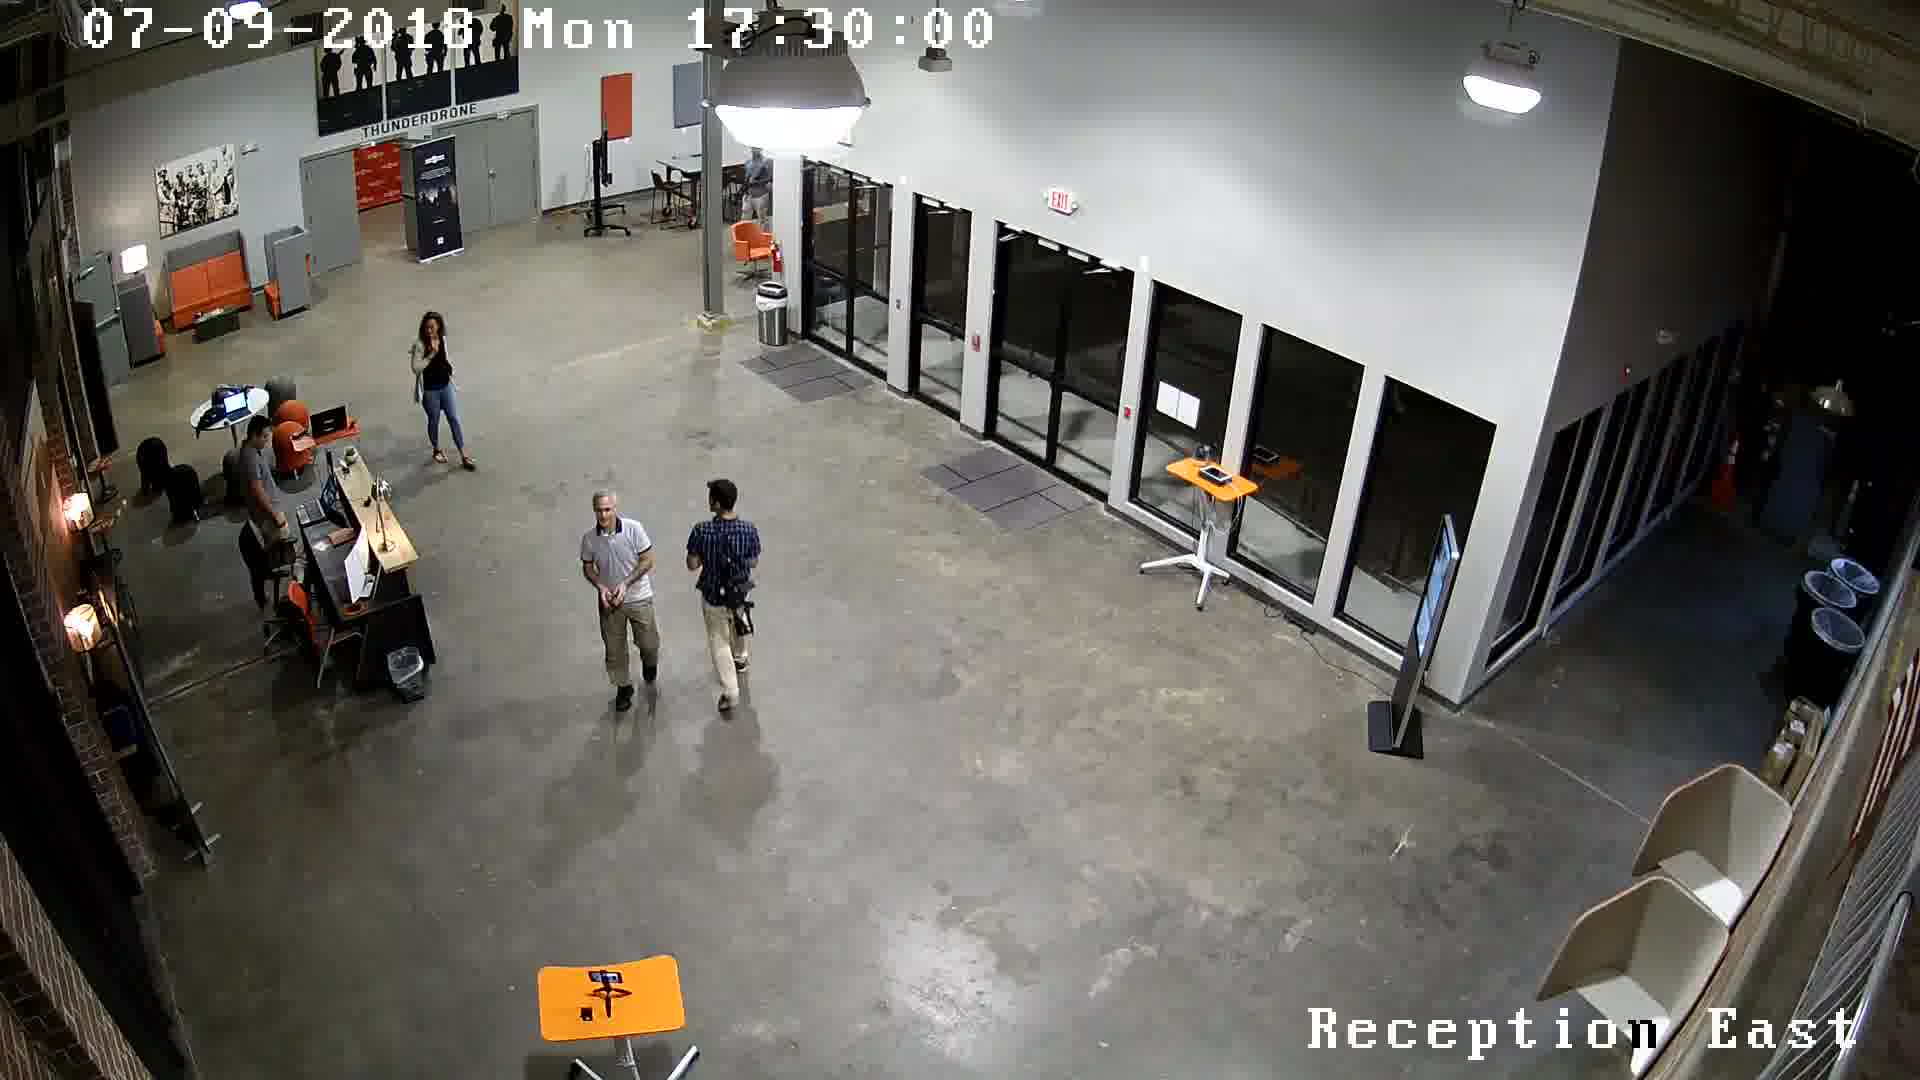pistol: (592, 582, 626, 621)
